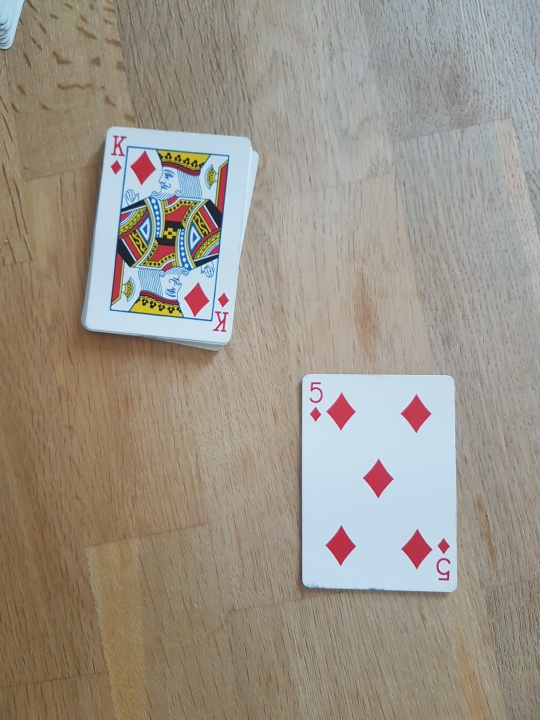5: (294, 371, 468, 600)
king: (85, 117, 257, 354)
